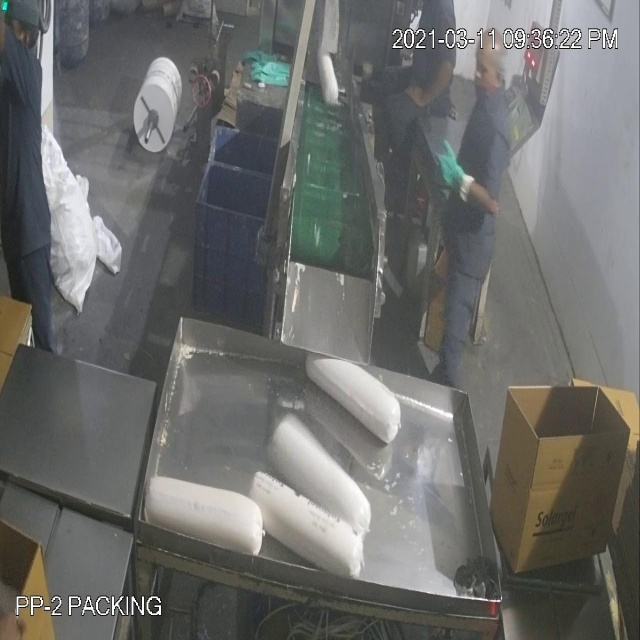Guantes: (423, 134, 480, 211)
Sin_guantes: (404, 49, 467, 115)
